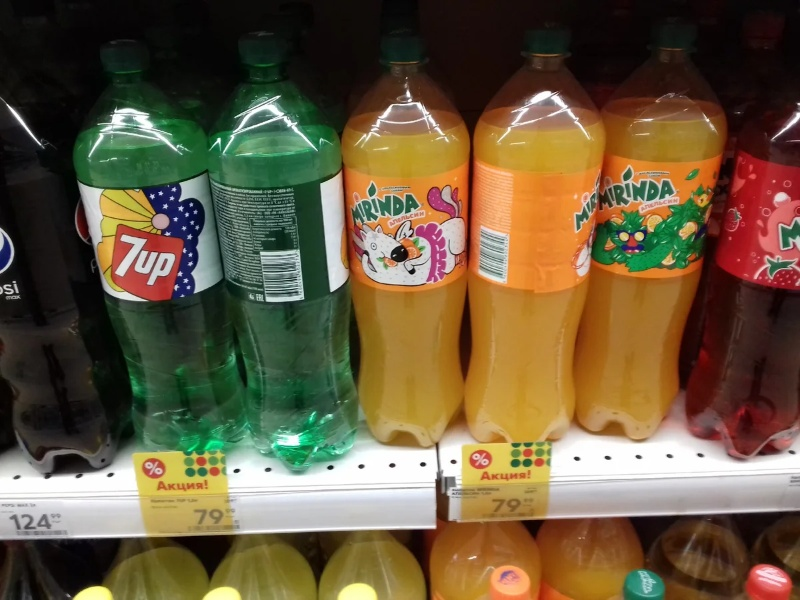lemonade: (59, 33, 273, 474), (198, 30, 366, 476), (573, 24, 744, 455), (458, 24, 603, 461), (329, 25, 475, 458)
